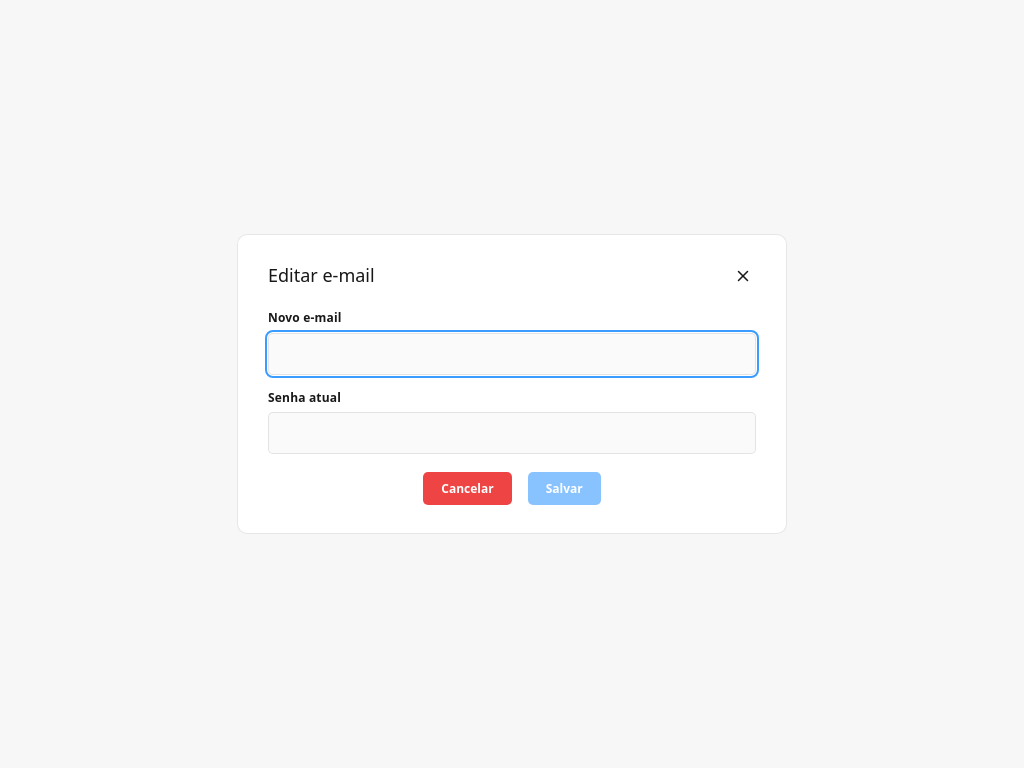
Scenario: AccountActionModal › mode: email › exibe erro 409 (e-mail em uso) em role=alert
This screenshot has width=1024, height=768.
Type "ja_existe@empresa.com" into the field labelled "Novo e-mail". click: (512, 354)
box: [268, 332, 756, 374]
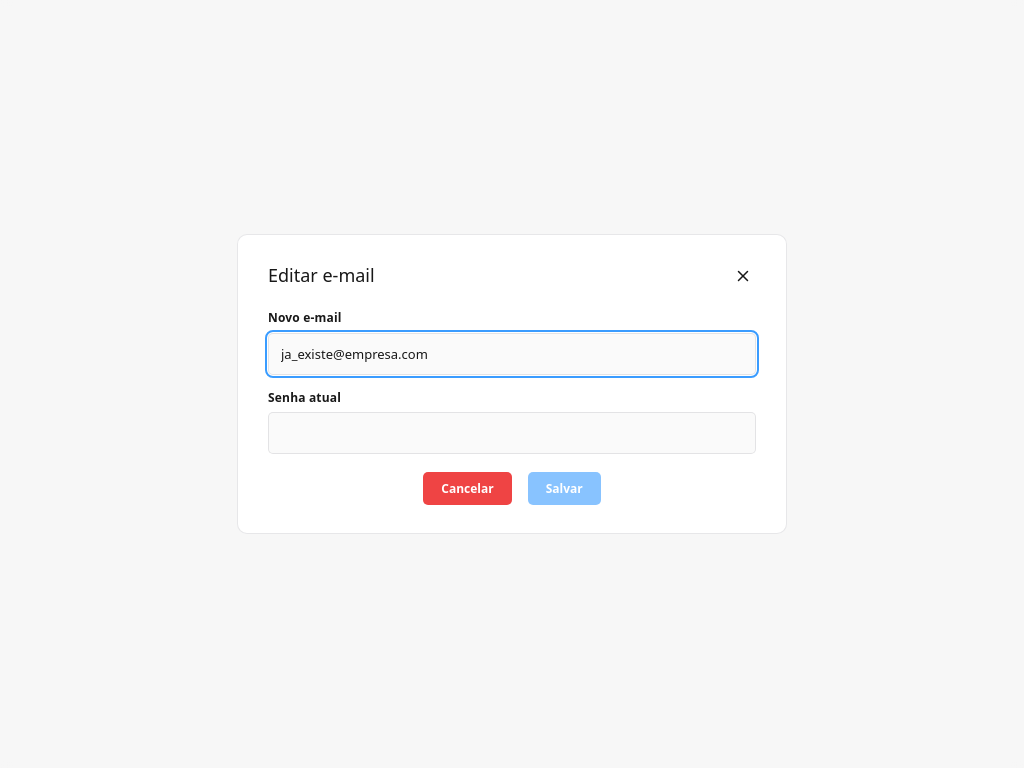
Type "senha123" into the password field labelled "Senha atual". click: (512, 433)
box: [268, 412, 756, 454]
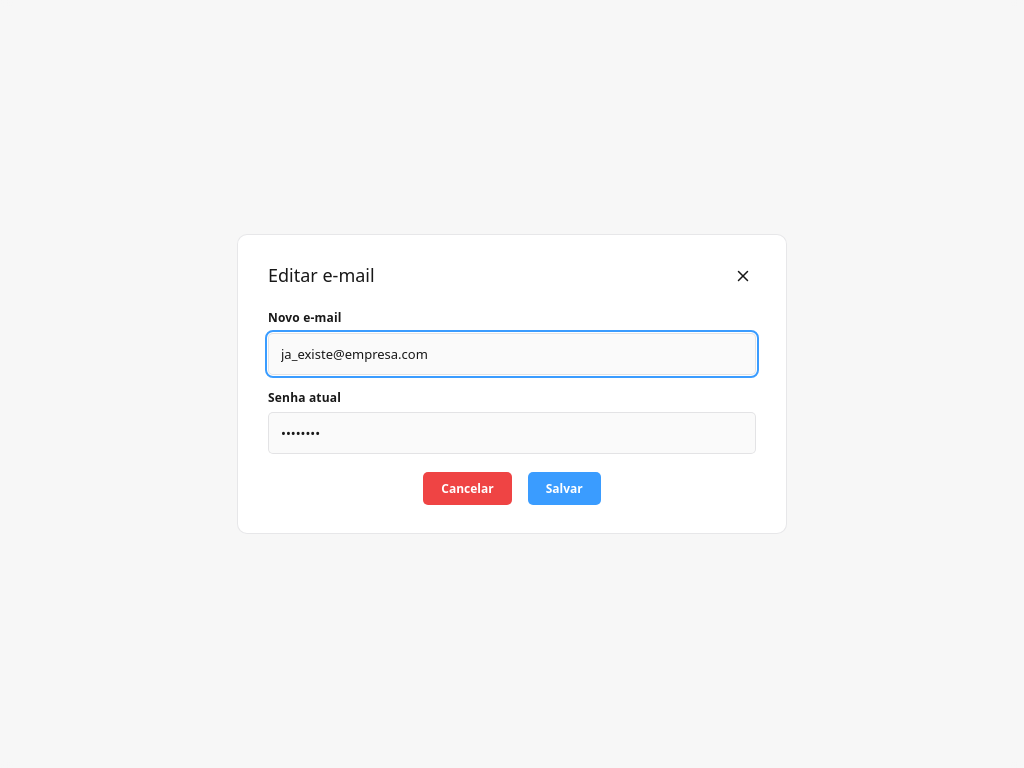
Click the button "Salvar". click: (564, 488)
box: [528, 472, 601, 505]
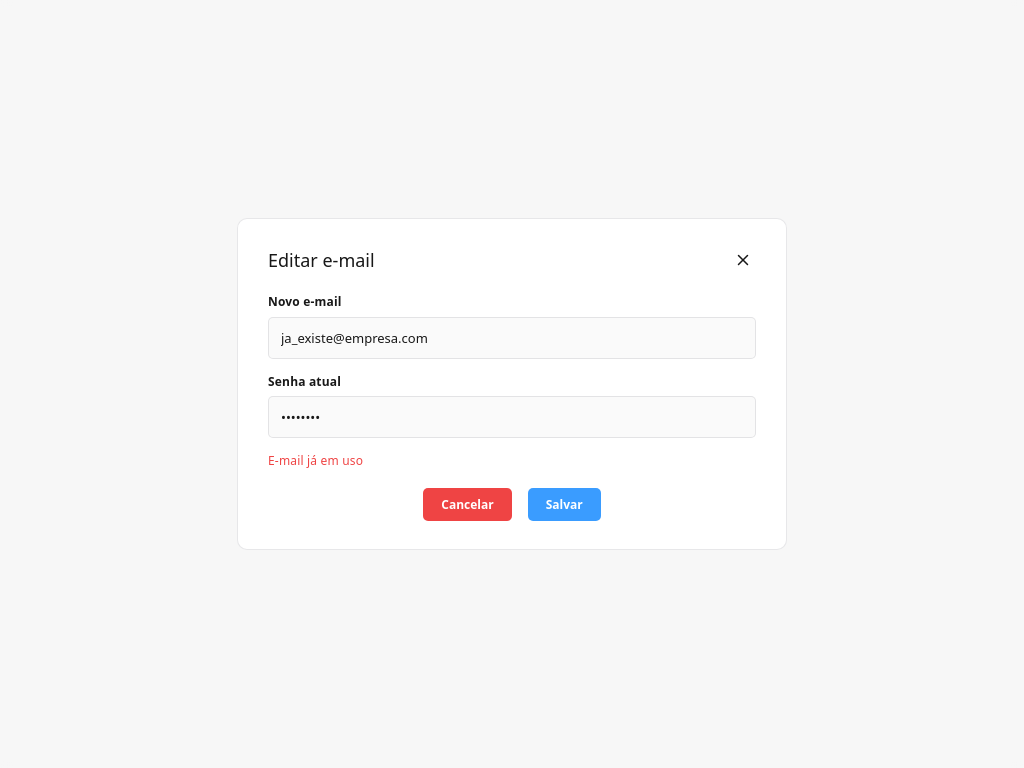
Now the message reads "E-mail já em uso", box [268, 452, 363, 469]
